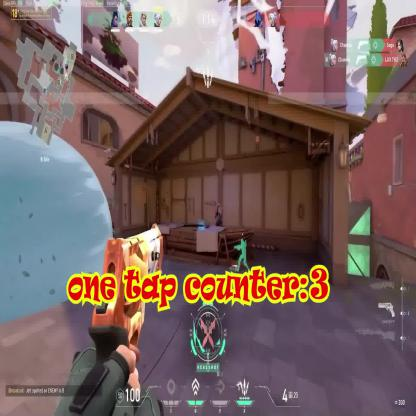enemy: (215, 203, 222, 240)
enemy_head: (217, 203, 220, 211)
